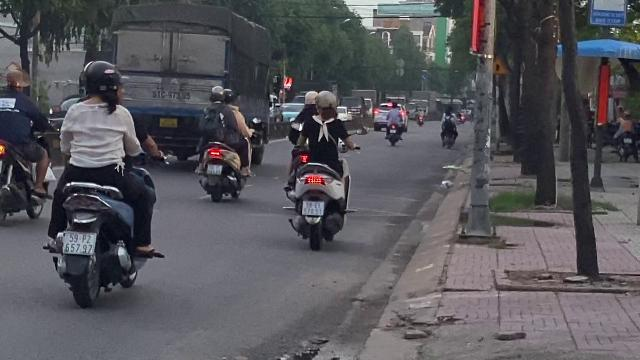helmet: (79, 60, 123, 104), (316, 90, 338, 117), (208, 86, 224, 102), (304, 90, 318, 105), (222, 87, 234, 103)
licenseplate: (64, 232, 95, 254), (302, 201, 324, 215), (206, 164, 222, 174)
motorcyclist: (42, 58, 162, 308), (281, 88, 355, 248), (1, 62, 51, 226), (193, 84, 251, 202)
nohelmet: (1, 64, 32, 94)
